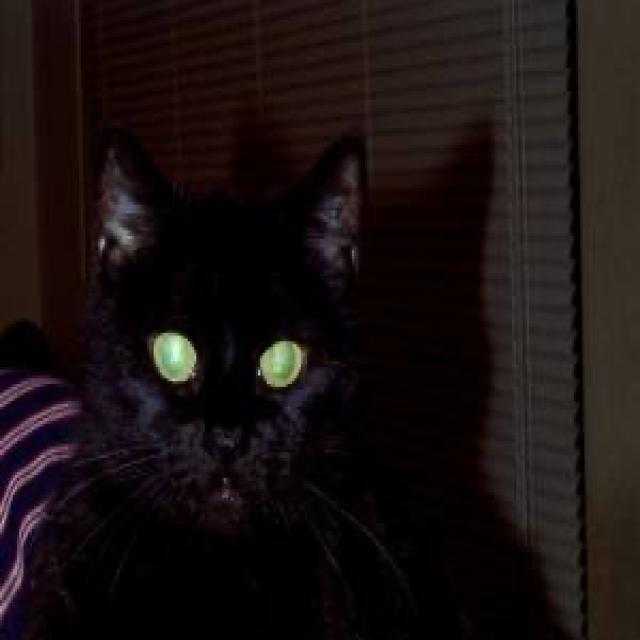cat: (77, 122, 371, 535)
